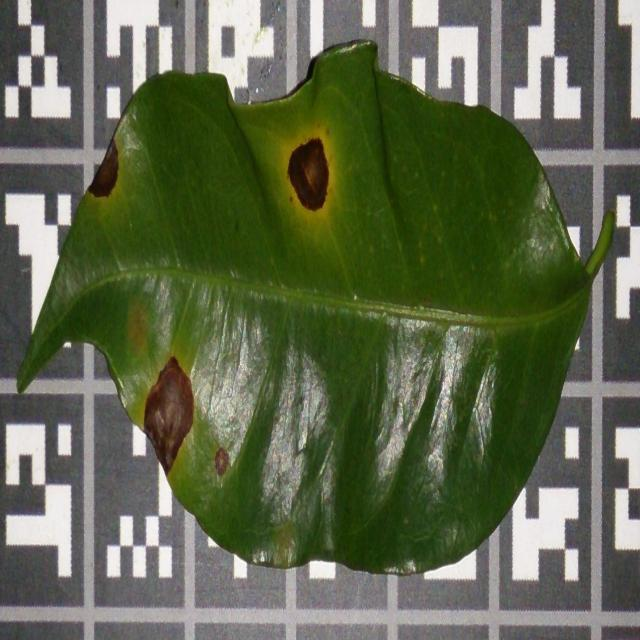Enfermedad-Mancha-de-hierro: (16, 42, 618, 578)
